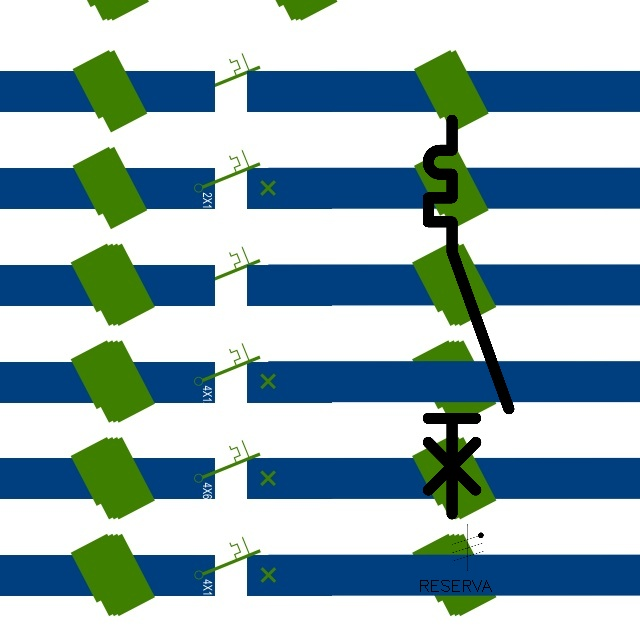interruptor_termomagnetico: (418, 110, 519, 524)
